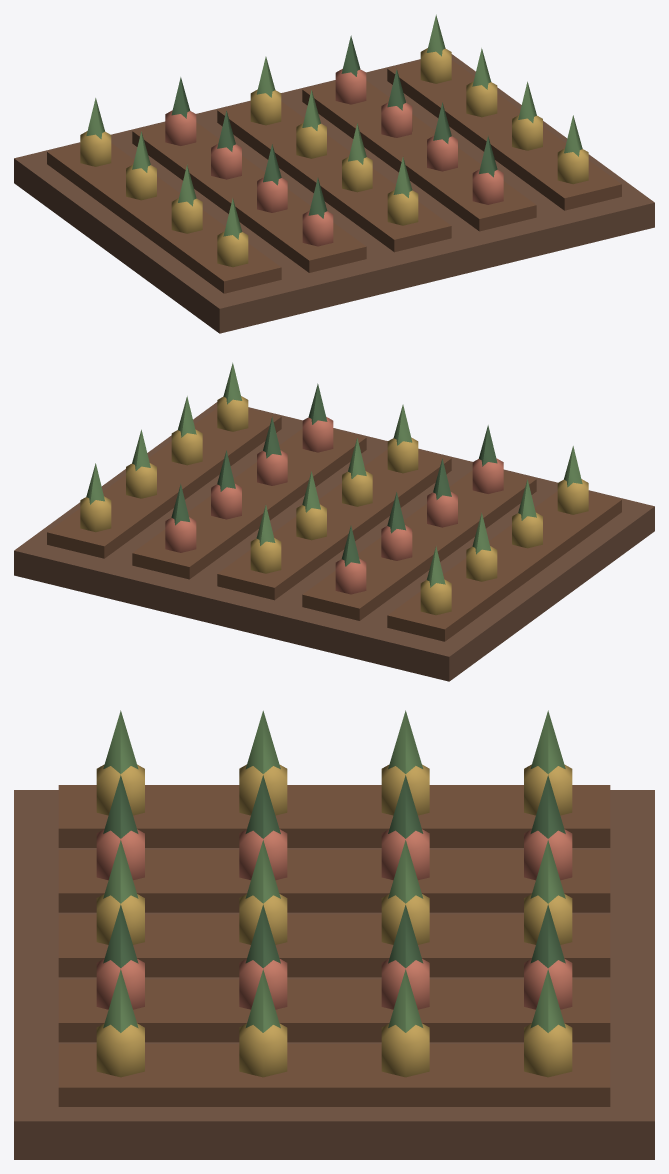
Rendered from crop-patch-lod1.glb.
The picture shows the model from 3 angles, top to bottom: view 1: azimuth 30°, elevation 25°; view 2: azimuth 150°, elevation 25°; view 3: azimuth 270°, elevation 25°; orthographic projection. The views are drawn at different scales.
Visible parts, largest first — view 1: shell; view 2: shell; view 3: shell.
Boxes of the visible parts, x1=… form: shell: x1=14, y1=14, x2=654, y2=333; shell: x1=14, y1=362, x2=654, y2=681; shell: x1=14, y1=710, x2=654, y2=1159.
Size of the model in its own units: 2.2 by 0.4799 by 1.8.
